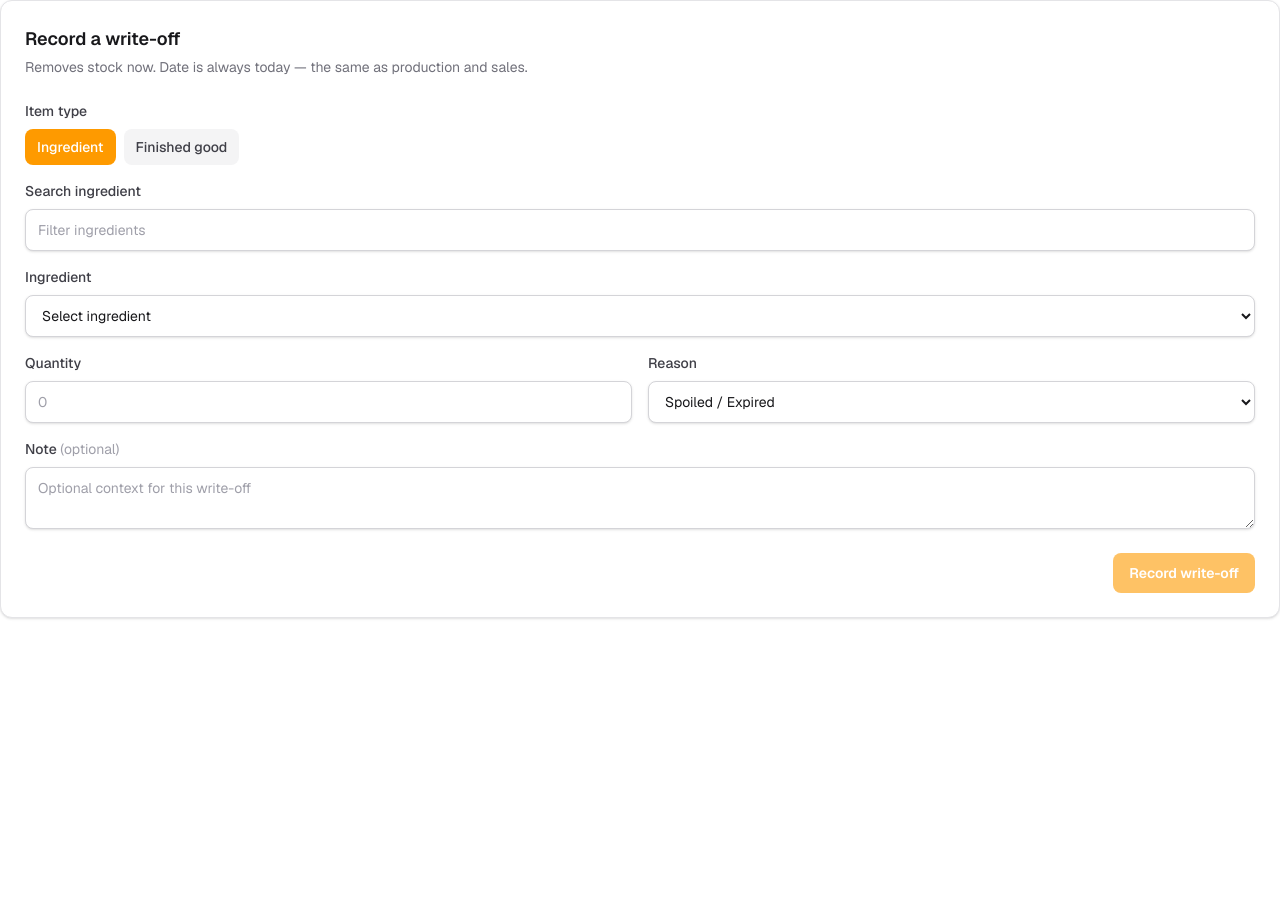
it: WriteOffForm › shows the selected ingredient's unit beside the quantity field
Expected: the text "kg" is not shown
Select "Chicken (kg)" in the dropdown labelled "Ingredient" at [640, 316], box [25,295,1255,337]
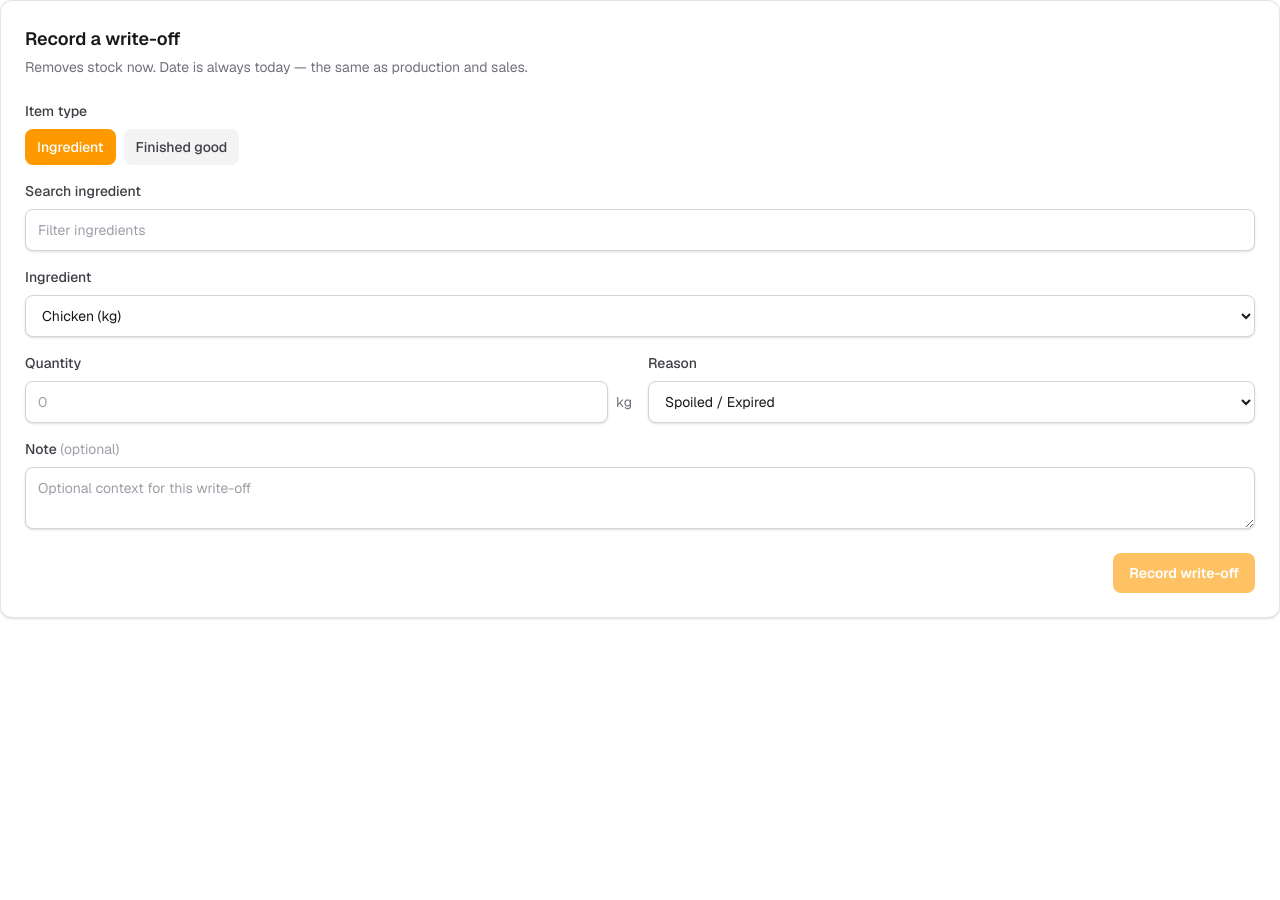
Result: the text "kg" is shown at [616,392,632,412]
